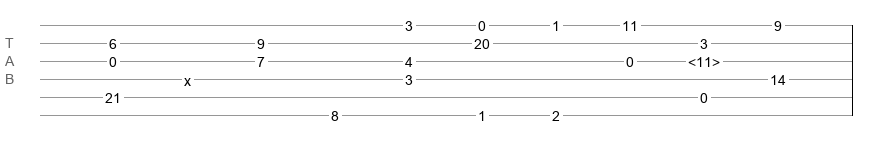0: (109, 54, 117, 64), (478, 18, 486, 28), (626, 54, 634, 64), (700, 90, 708, 100)
1: (478, 108, 486, 118), (552, 18, 560, 28)
11: (622, 18, 638, 28)
14: (770, 72, 786, 82)
2: (552, 108, 560, 118)
20: (474, 36, 490, 46)
21: (105, 90, 121, 100)
3: (405, 72, 413, 82), (405, 18, 413, 28), (700, 36, 708, 46)
4: (405, 54, 413, 64)
6: (109, 36, 117, 46)
7: (257, 54, 265, 64)
8: (331, 108, 339, 118)
9: (257, 36, 265, 46), (774, 18, 782, 28)
harmonic: (688, 54, 720, 64)
x: (184, 73, 191, 81)
